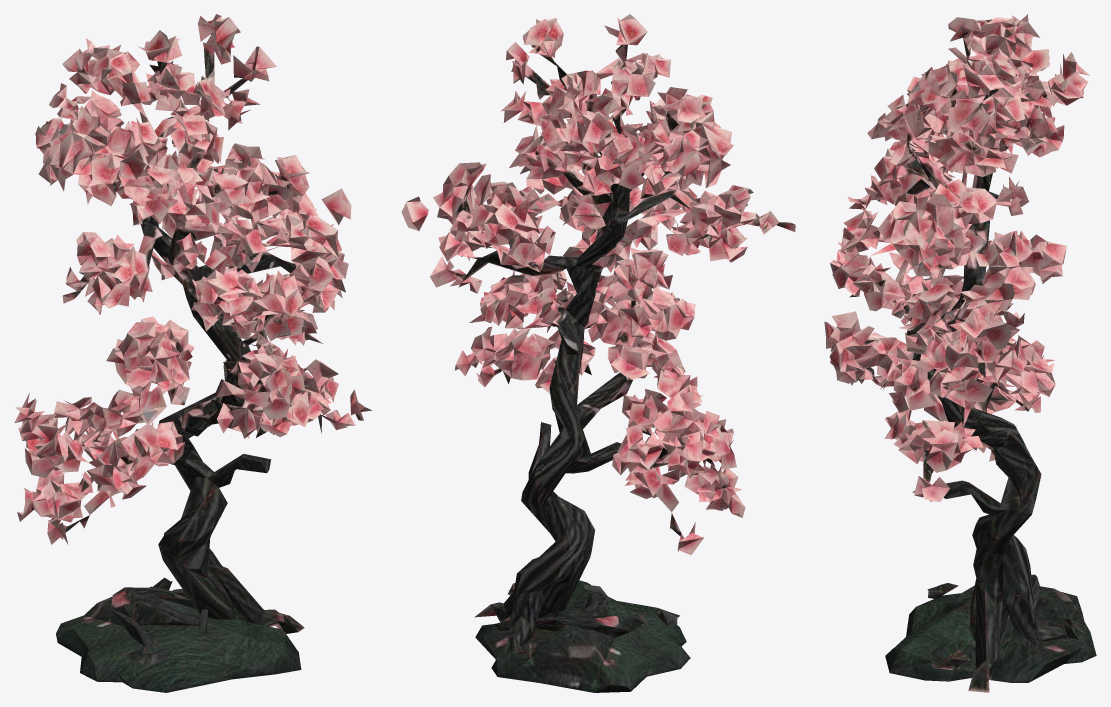
File: tree_peach.glb
3 views of the same model, side by side, from view 1: azimuth 30°, elevation 25°; view 2: azimuth 150°, elevation 25°; view 3: azimuth 270°, elevation 25° (orthographic). The views are drawn at different scales.
Size of the model in its own units: 1.06 by 1.89 by 0.7647.
1 material, 1 textured.
